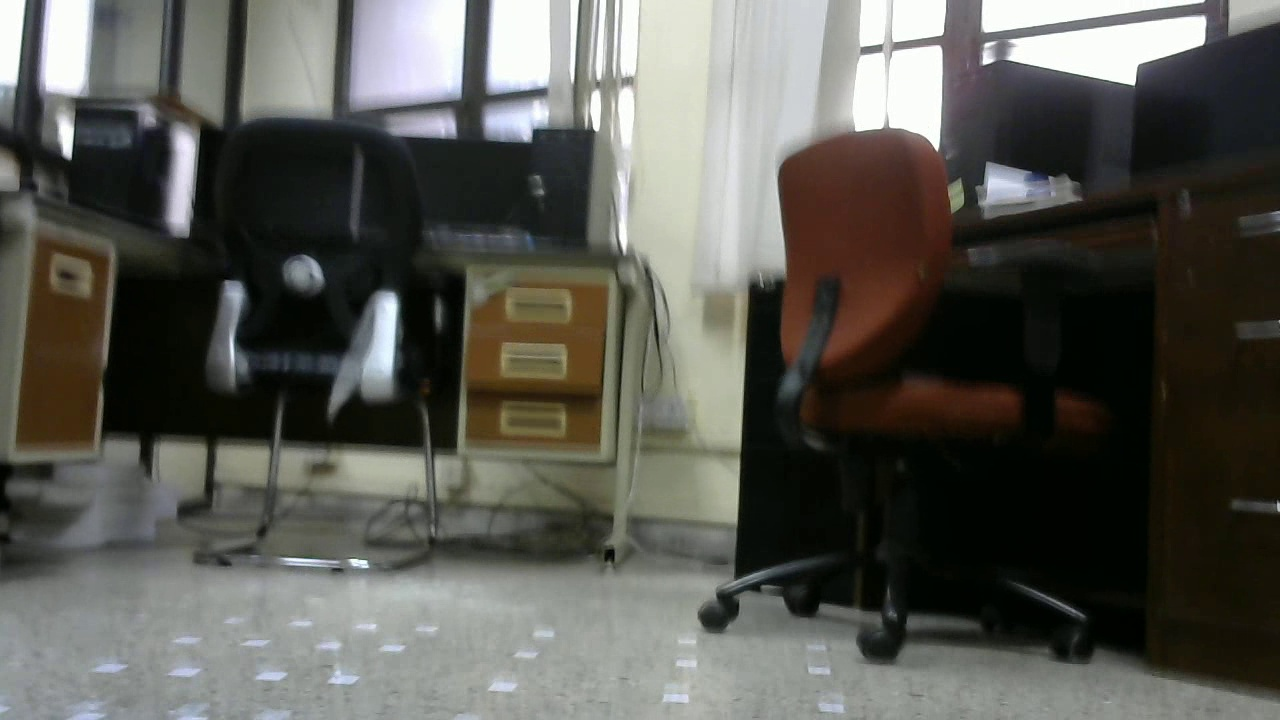chair: (693, 124, 1104, 662), (201, 119, 443, 575)
